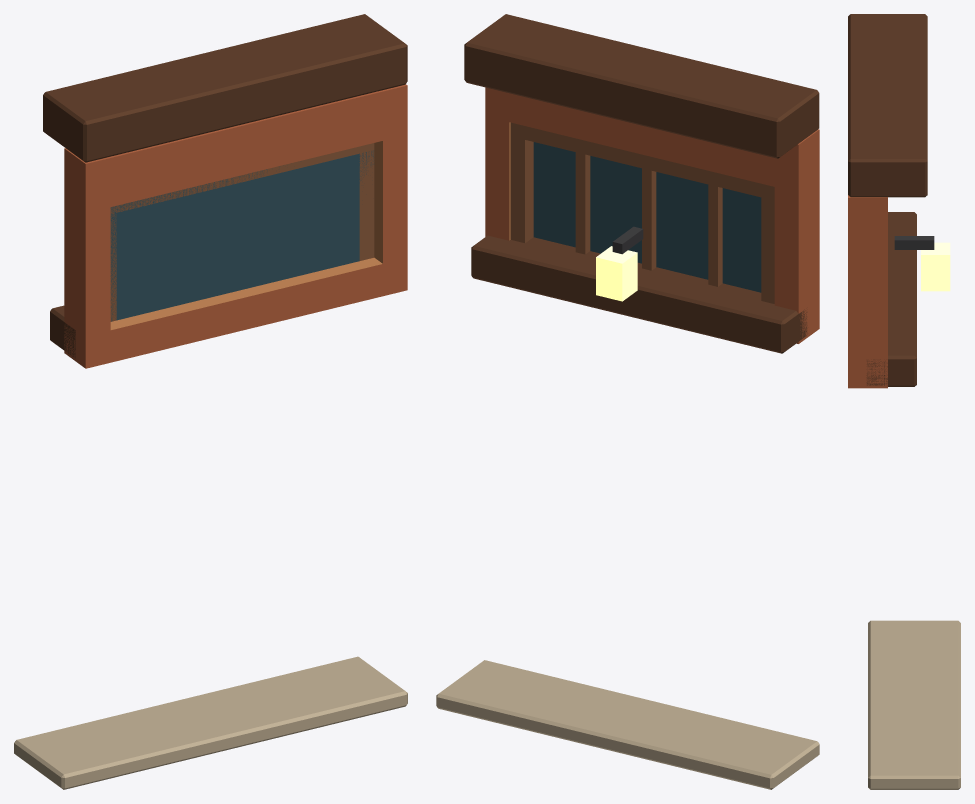
The model's file is hall_door_wall.glb.
The picture shows the model from 3 angles, left to right: view 1: azimuth 30°, elevation 25°; view 2: azimuth 150°, elevation 25°; view 3: azimuth 270°, elevation 25°; orthographic projection. The views are drawn at different scales.
Parts seen in each view (by area): view 1: wall; view 2: wall; view 3: wall.
Part boxes in pixels (box(x1,y1,x2,y2)): wall: box(14, 14, 407, 789); wall: box(436, 14, 819, 789); wall: box(848, 14, 960, 789).
Size of the model in its own units: 2.8 by 5.2 by 0.85.
